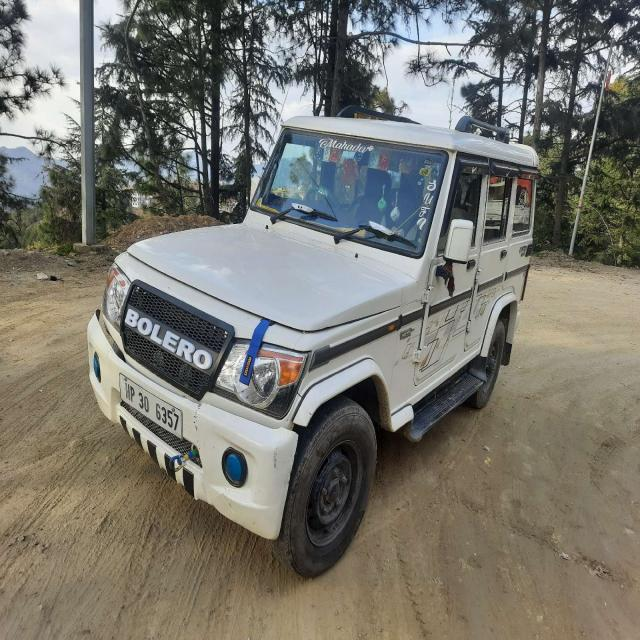light_vehicle: (85, 124, 537, 506)
